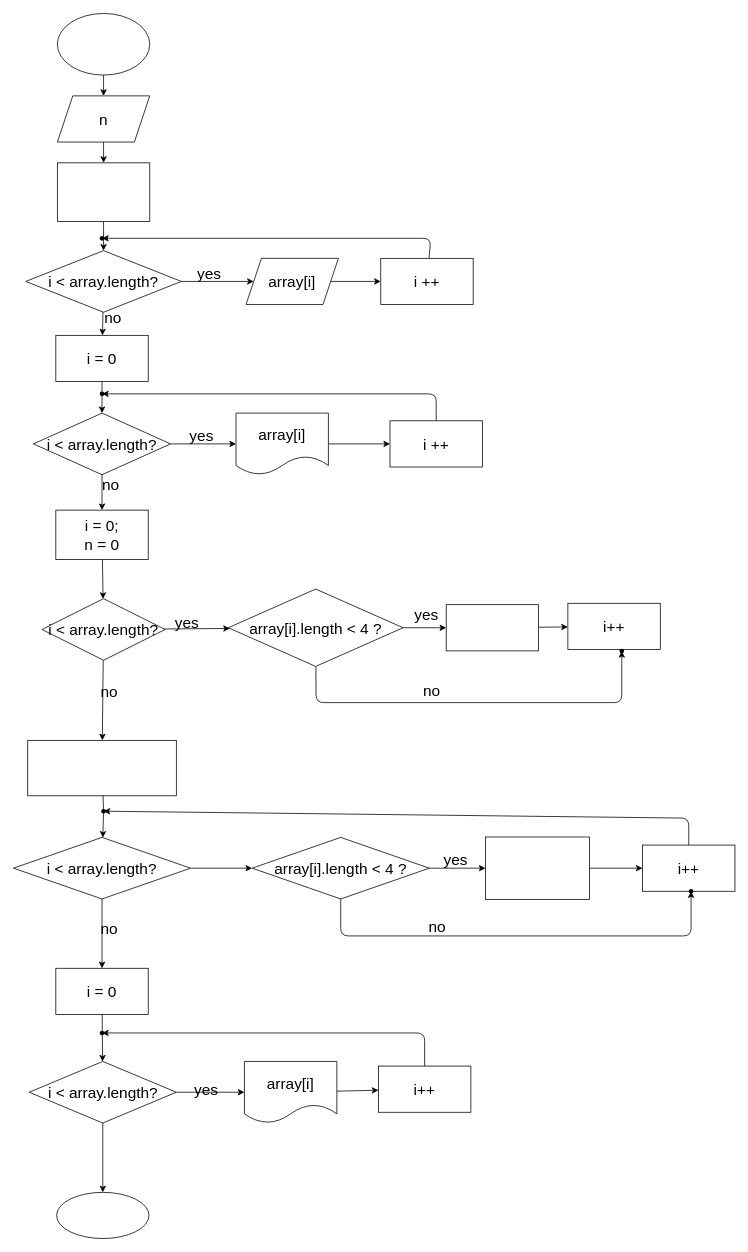
Image size: 748x1252. Some labels were removed from this diagram. Here are the shapes that lost their labels. From the top down, the centre of each, then its label:
the point at 103,44: start
the point at 103,191: i = 0; array = new string[n]
the point at 492,627: n++
the point at 101,768: resalt = new string[n]; i = 0; n = 0
the point at 537,867: resalt[n] = array[n]; n++
the point at 102,1215: end
